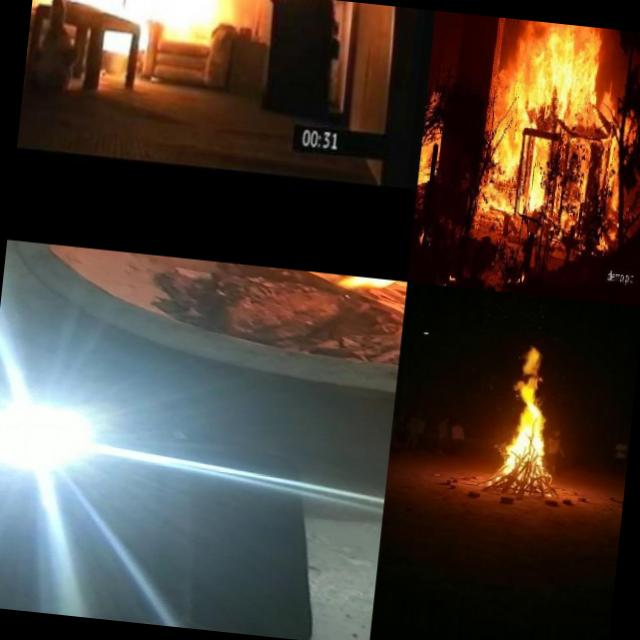fire: (474, 17, 636, 253), (488, 334, 562, 486), (30, 0, 229, 33)
